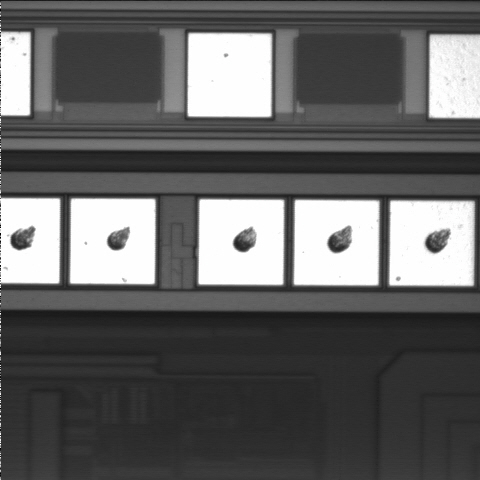pad: (199, 199, 284, 285), (70, 199, 155, 284), (294, 200, 379, 285), (389, 201, 474, 286), (188, 33, 271, 117)
